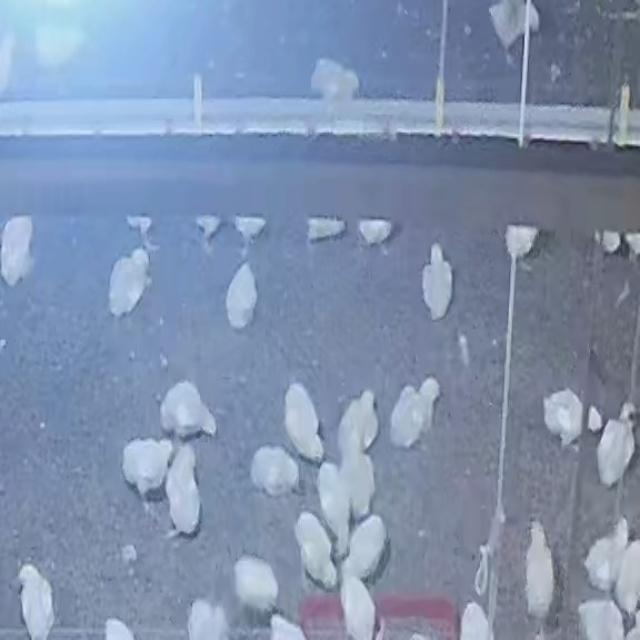chicken: (158, 379, 217, 441), (293, 512, 340, 589), (392, 378, 442, 450), (524, 520, 555, 636), (165, 444, 201, 536), (340, 432, 376, 524), (121, 436, 171, 498), (283, 383, 322, 462), (600, 400, 634, 488), (17, 562, 55, 640), (588, 519, 629, 591), (108, 248, 150, 317), (346, 513, 388, 580), (249, 444, 299, 498), (316, 464, 348, 548), (232, 554, 278, 612), (542, 388, 585, 448), (421, 242, 454, 320), (338, 392, 376, 459), (0, 215, 35, 285), (490, 0, 539, 50), (224, 260, 257, 331), (342, 576, 376, 640), (616, 539, 640, 615)
